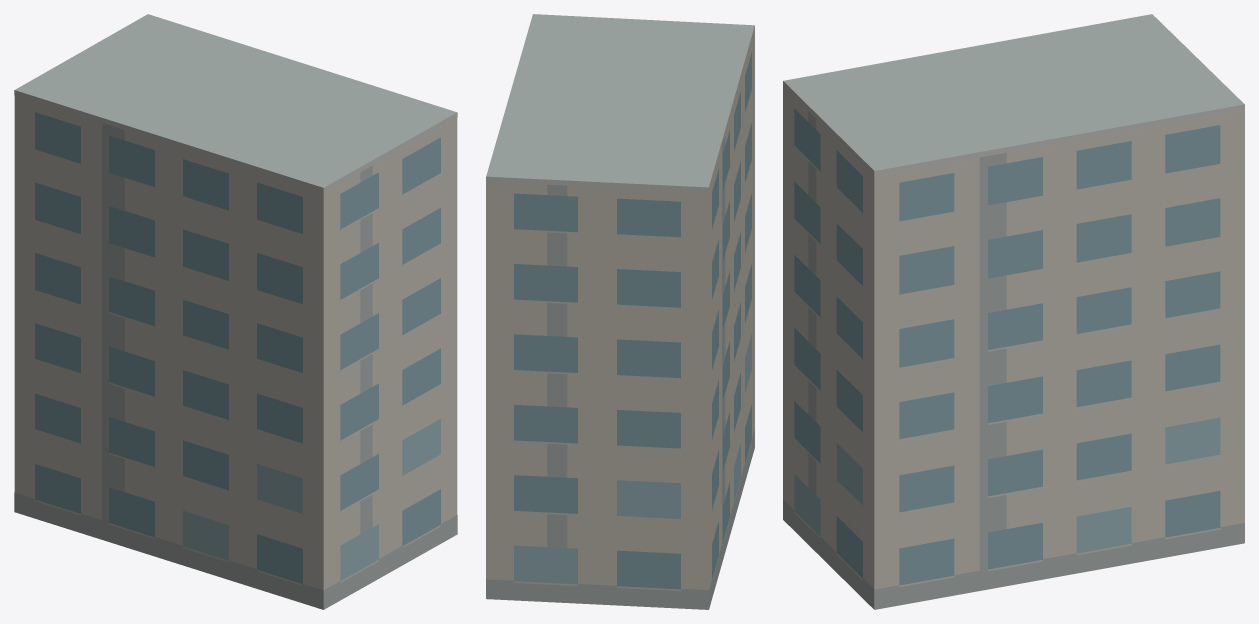
File: survey-upis-33005933.glb
The picture shows the model from 3 angles, left to right: view 1: azimuth 30°, elevation 25°; view 2: azimuth 150°, elevation 25°; view 3: azimuth 270°, elevation 25°; orthographic projection. The views are drawn at different scales.
Visible parts, largest first — view 1: survey-upis-33005933.tmp; view 2: survey-upis-33005933.tmp; view 3: survey-upis-33005933.tmp.
Boxes of the visible parts, box(x1,y1,x2,y2) form: survey-upis-33005933.tmp: box(14, 14, 457, 609); survey-upis-33005933.tmp: box(486, 14, 754, 609); survey-upis-33005933.tmp: box(783, 14, 1244, 609).
Bounding box in the file's own units: 15.2 × 19.8 × 18.89.
